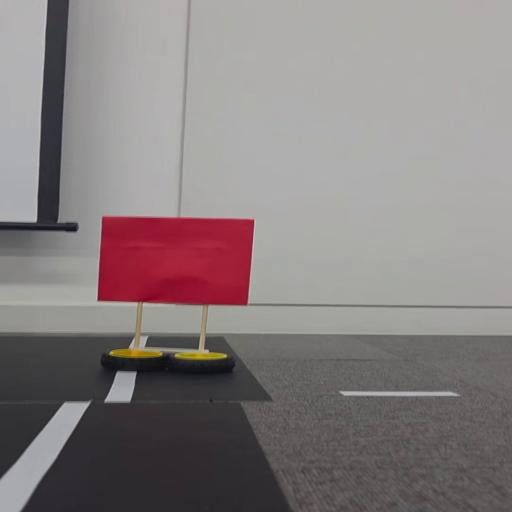Sign_A: (98, 210, 264, 378)
